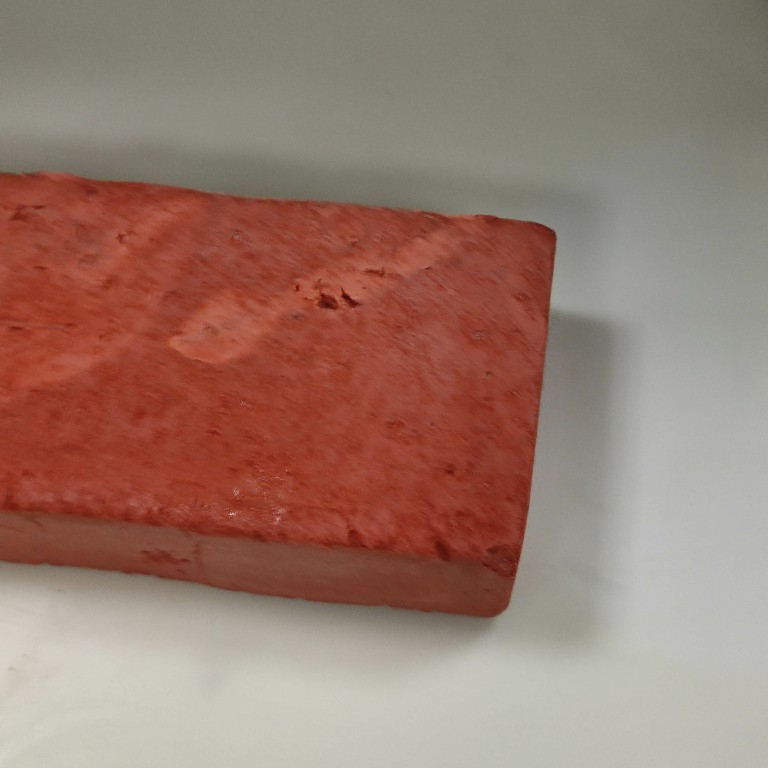brick: (1, 162, 559, 625)
